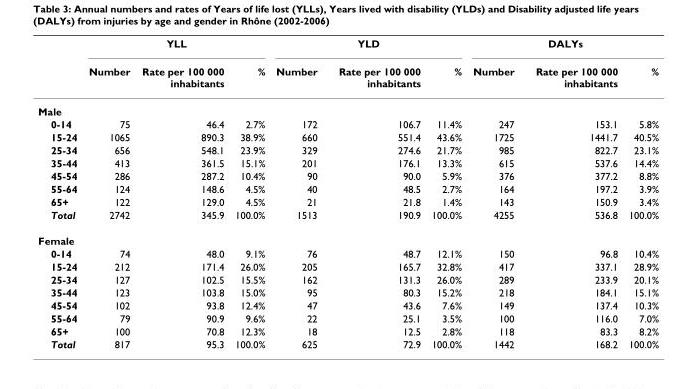table: (37, 36, 658, 349)
table column: (327, 36, 425, 349), (524, 36, 622, 349), (135, 36, 228, 349), (269, 36, 327, 349), (466, 36, 524, 349), (82, 36, 135, 349), (37, 36, 82, 349), (228, 36, 269, 349), (425, 36, 466, 349), (622, 36, 658, 349)
table column header: (37, 36, 658, 96)
table projected row header: (37, 96, 658, 117), (37, 227, 658, 246)
table row: (37, 56, 658, 96), (37, 96, 658, 117), (37, 36, 658, 56), (37, 207, 658, 227), (37, 227, 658, 246), (37, 117, 658, 130), (37, 130, 658, 143), (37, 143, 658, 156), (37, 168, 658, 181), (37, 181, 658, 194), (37, 194, 658, 207), (37, 246, 658, 259), (37, 259, 658, 272), (37, 272, 658, 285), (37, 285, 658, 298), (37, 298, 658, 311), (37, 311, 658, 324), (37, 324, 658, 337), (37, 156, 658, 168), (37, 337, 658, 349)
table spanning cell: (269, 36, 466, 56), (466, 36, 658, 56), (82, 36, 269, 56)
